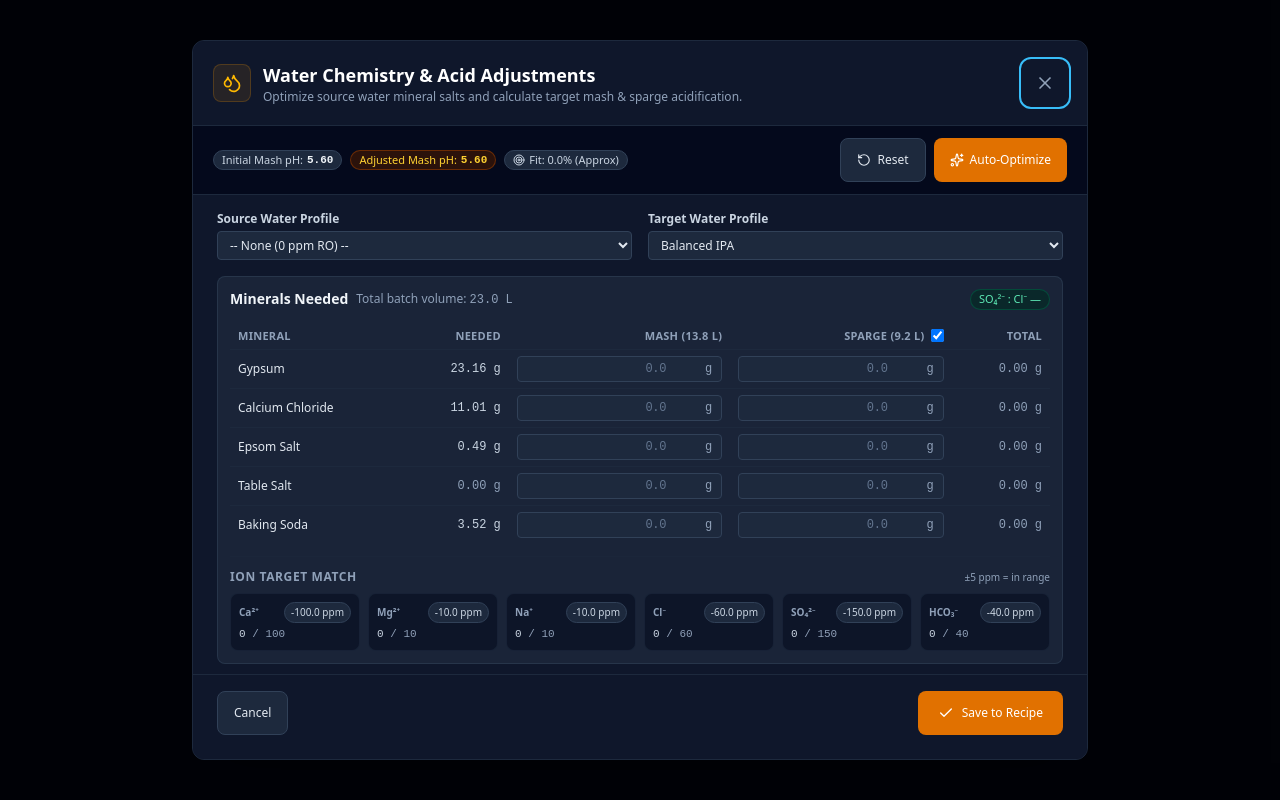
Test: AC-10: Toggling sparge OFF zeroes spargeSalts; ON restores nothing (RA-3) › clears sparge inputs on toggle-off and leaves them empty on toggle-on
Click the button with test id "water-calc-auto-dose-btn" at (1000,160), box top-left (934, 138), bottom-right (1067, 182)
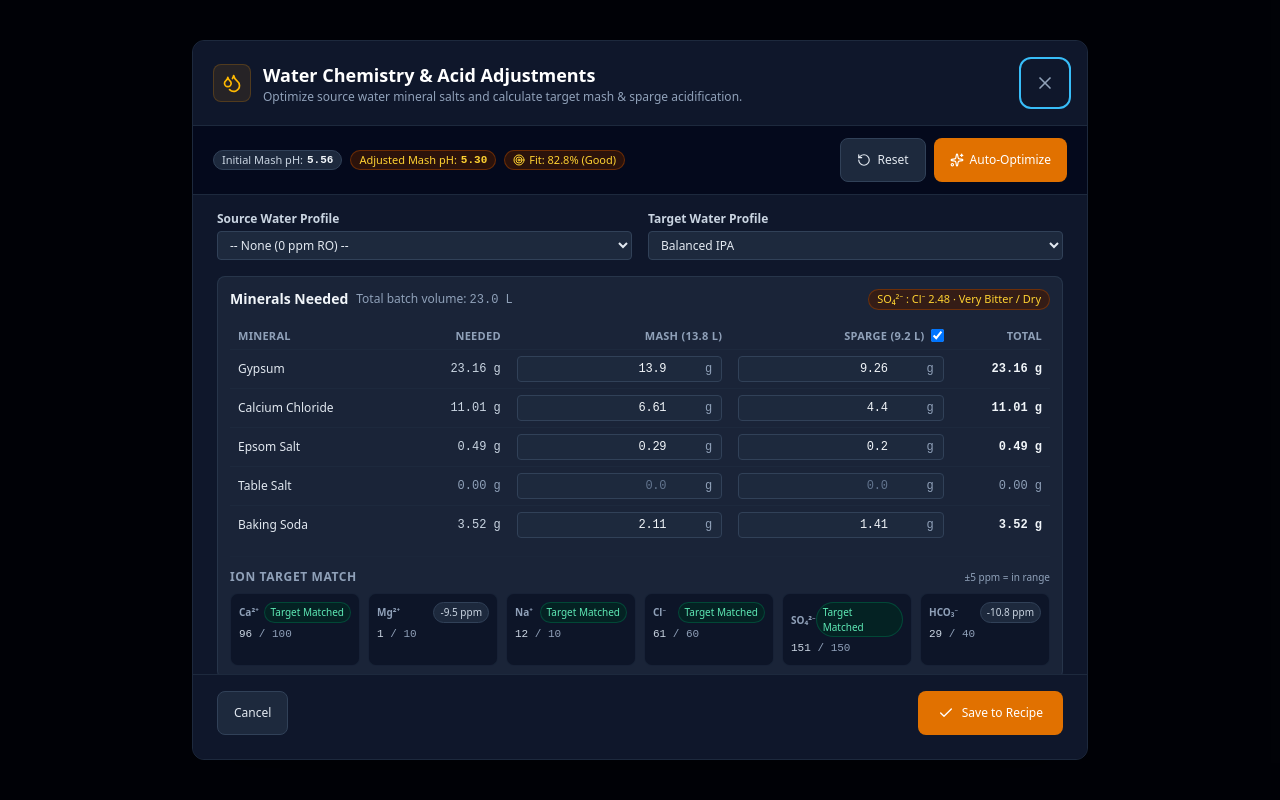
Now the number field named "Sparge Gypsum" holds "9.26", box top-left (738, 356), bottom-right (944, 382)
Click the checkbox with test id "treat-sparge-water-toggle" at (937,336), box top-left (931, 329), bottom-right (944, 342)
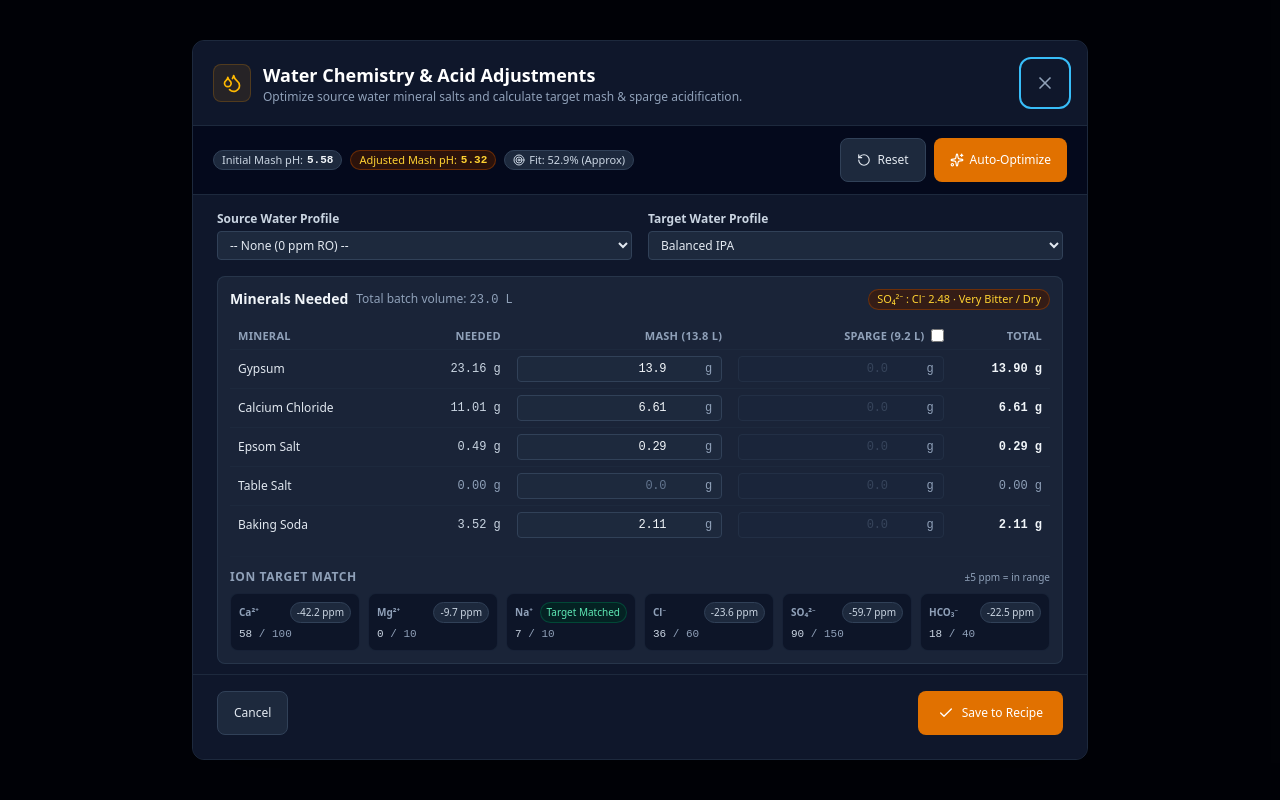
Click the checkbox with test id "treat-sparge-water-toggle" at (937,336), box top-left (931, 329), bottom-right (944, 342)
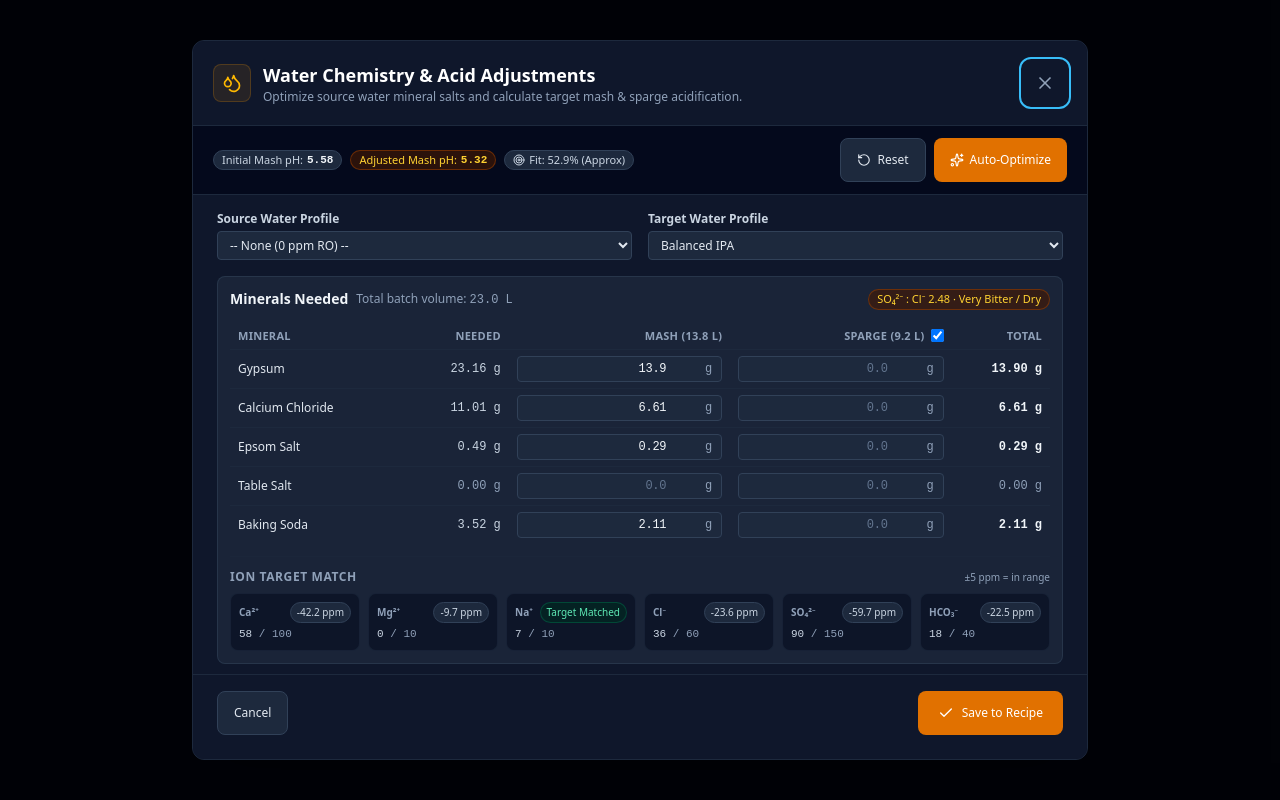
Now the number field named "Sparge Gypsum" is not empty, box top-left (738, 356), bottom-right (944, 382)
Now the number field named "Sparge Calcium Chloride" is not empty, box top-left (738, 395), bottom-right (944, 421)
Now the number field named "Sparge Gypsum" is enabled, box top-left (738, 356), bottom-right (944, 382)
